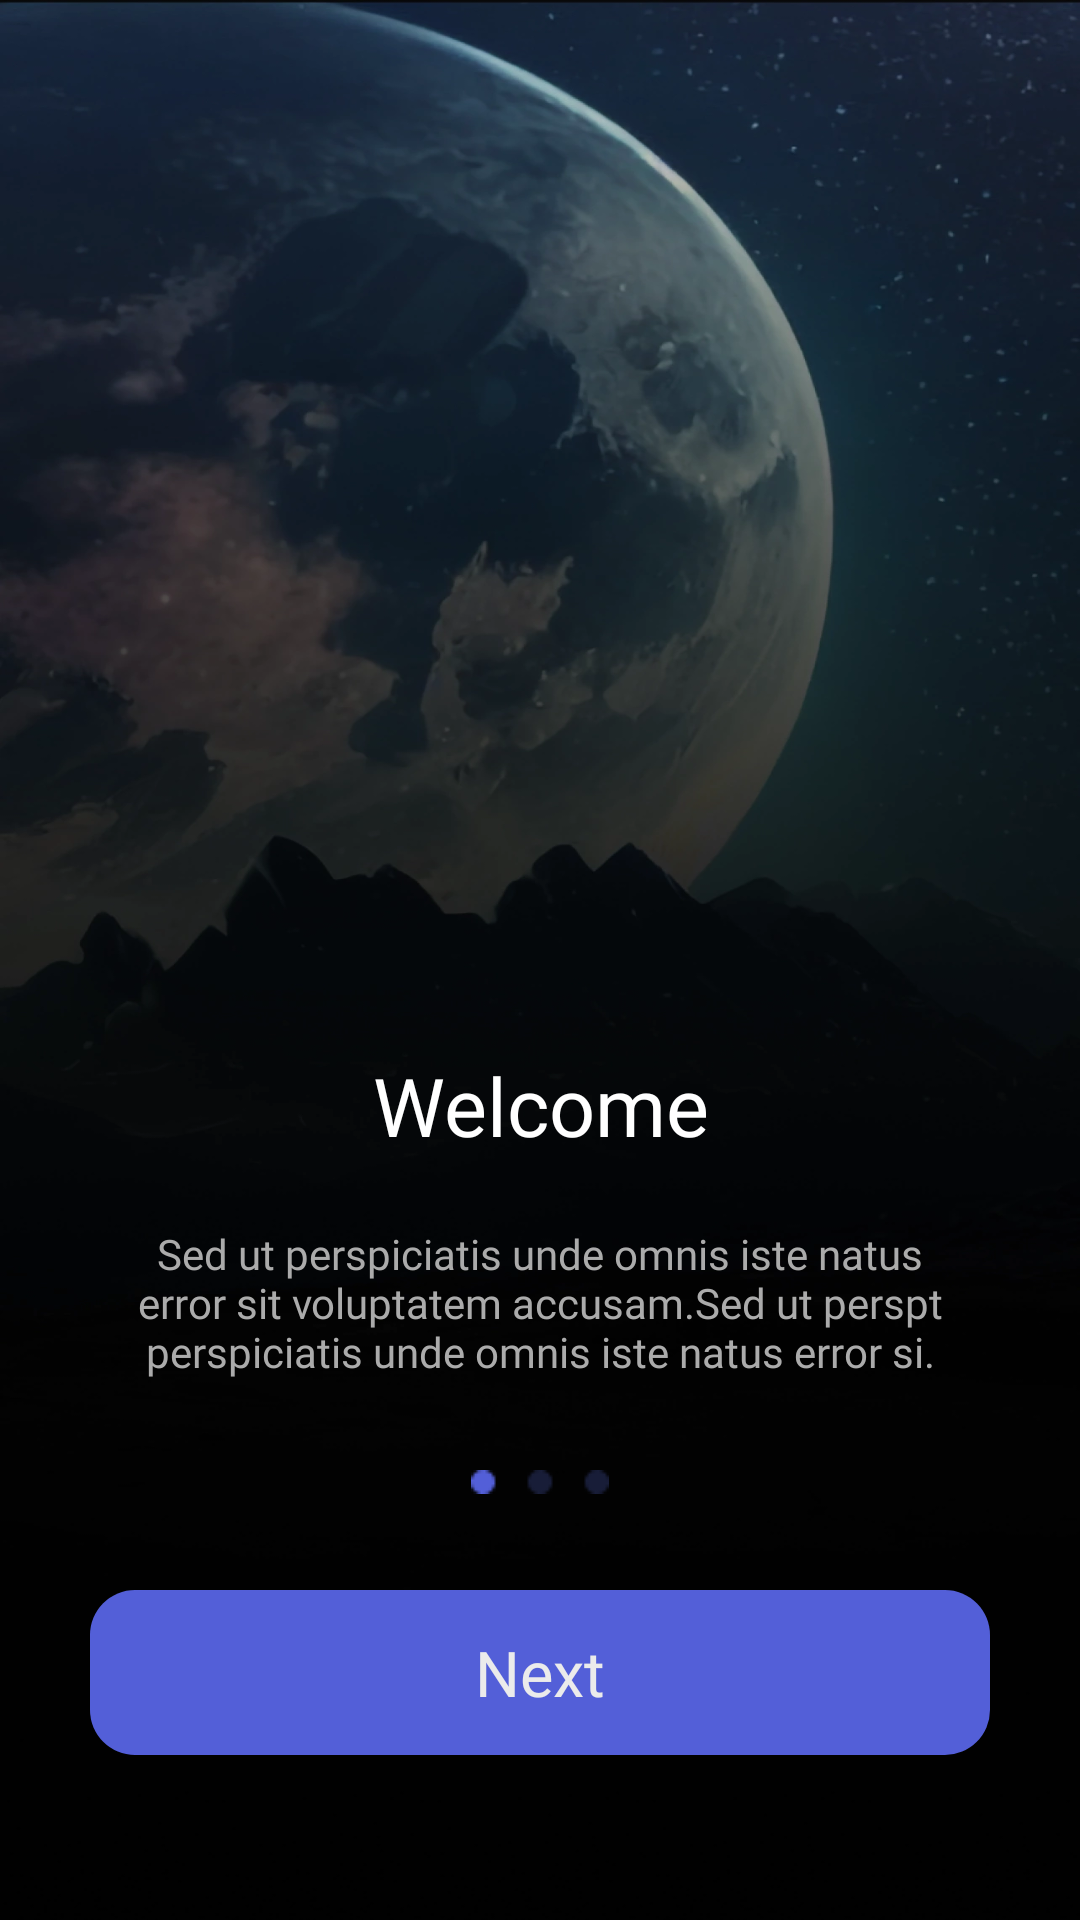

Named icons in this screenshot (1080 × 1920) and their bounding boxes, (x1, y1, x2, y2):
indicator: (471, 1470, 609, 1494)
